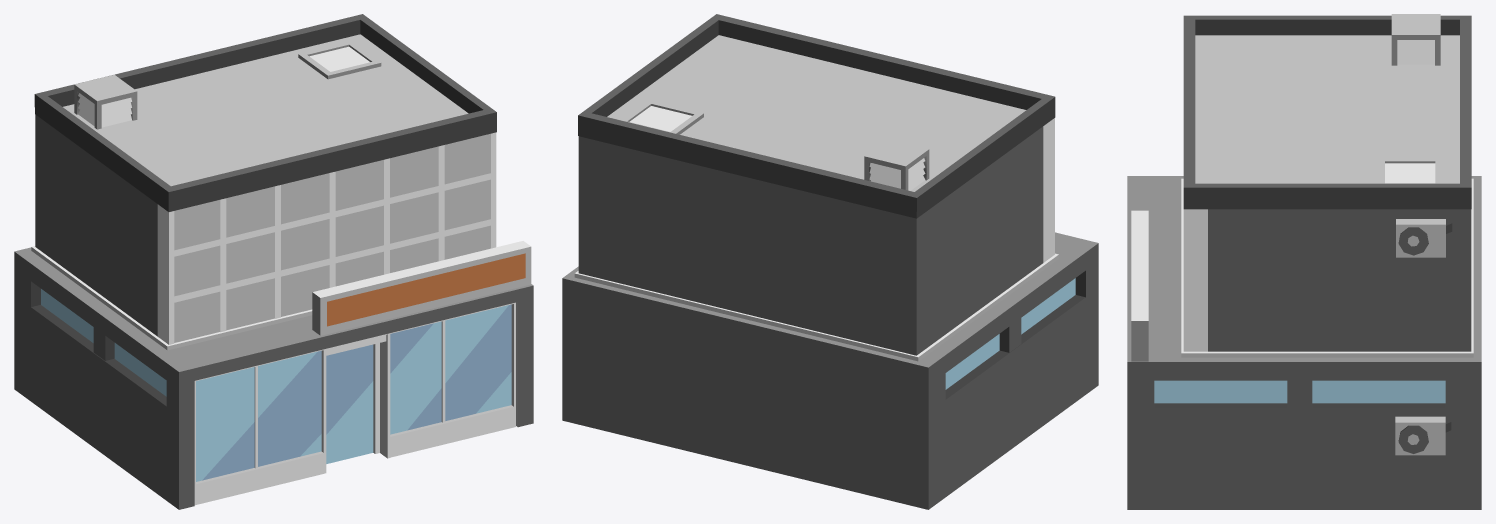
The model's file is supermarket_007.fbx.
3 views of the same model, side by side, from view 1: azimuth 30°, elevation 25°; view 2: azimuth 150°, elevation 25°; view 3: azimuth 270°, elevation 25° (orthographic). The views are drawn at different scales.
Parts seen in each view (by area): view 1: supermarket_007; view 2: supermarket_007; view 3: supermarket_007.
Part boxes in pixels (x1,y1,x2,y2): supermarket_007: (14, 14, 533, 509); supermarket_007: (562, 14, 1098, 509); supermarket_007: (1127, 14, 1481, 509).
Bounding box in the file's own units: 738 × 593 × 574.
